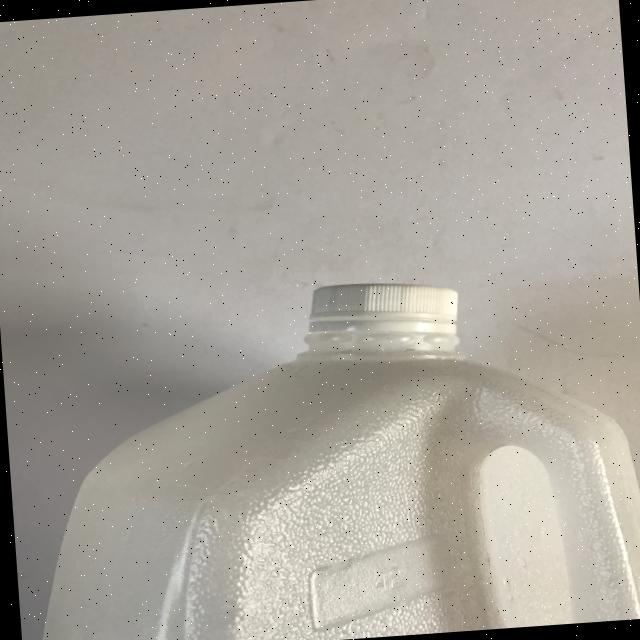plastic: (13, 261, 640, 640)
